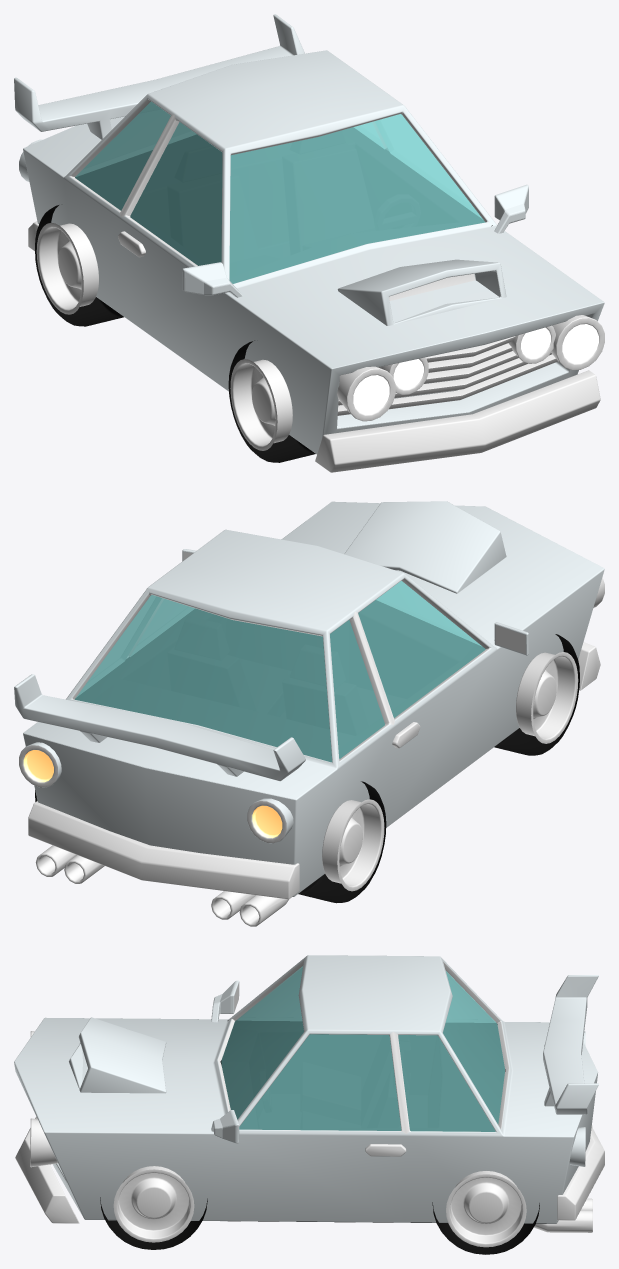
File: cargood.glb
3 renders of one model, top to bottom at view 1: azimuth 30°, elevation 25°; view 2: azimuth 150°, elevation 25°; view 3: azimuth 270°, elevation 25°, orthographic. The views are drawn at different scales.
Visible parts, largest first — view 1: Car; view 2: Car; view 3: Car.
Boxes of the visible parts, <box> form: Car: <box>14,14,604,472</box>; Car: <box>14,501,604,926</box>; Car: <box>14,955,604,1254</box>.
Bounding box in the file's own units: 0.9363 × 0.6245 × 1.62.
